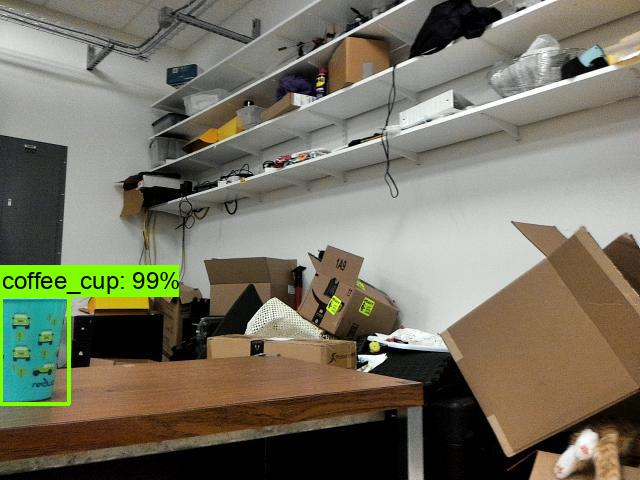coffee_cup: (1, 297, 69, 403)
